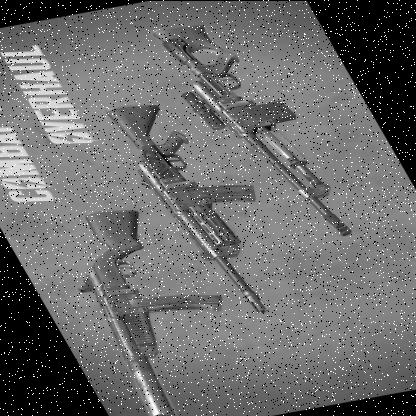rifle: (143, 5, 367, 251), (34, 201, 270, 416), (98, 91, 291, 320)
